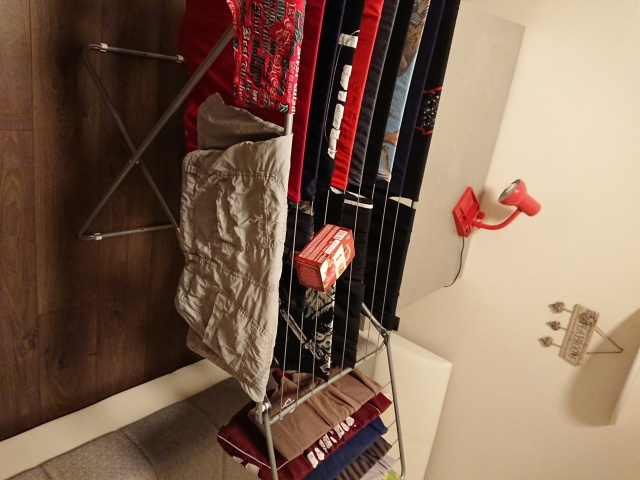Franck Apple Cinnamon Tea 60g: (291, 220, 358, 294)
